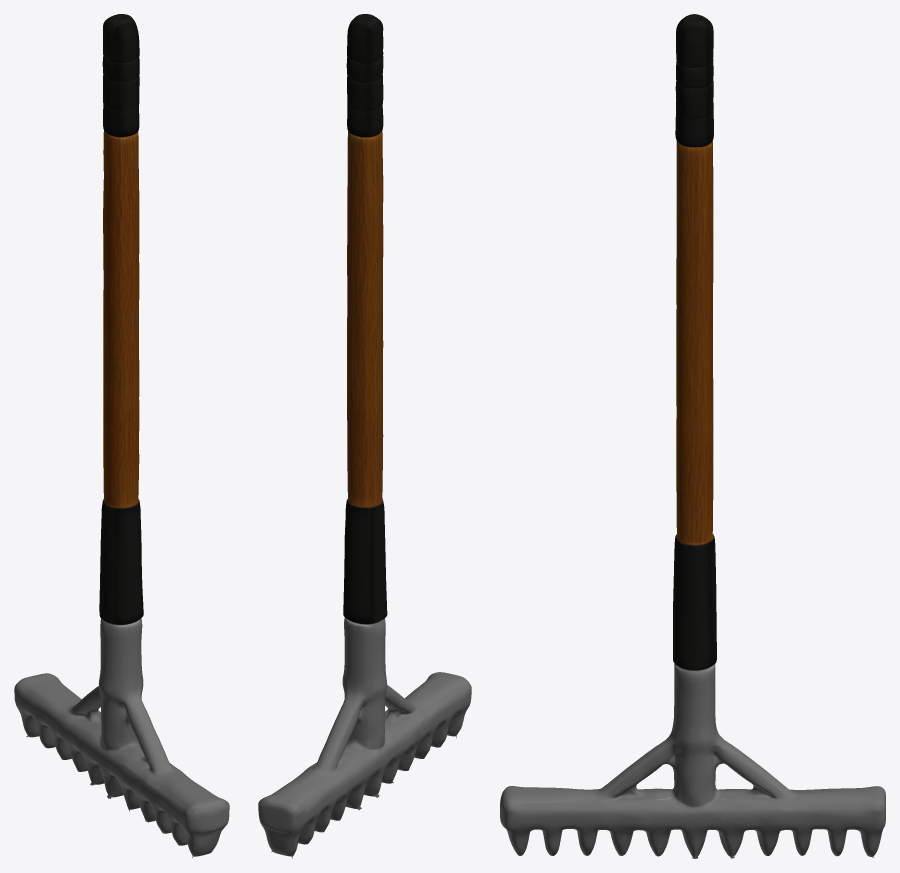
File: rake+3d+model.glb
3 renders of one model, left to right at view 1: azimuth 30°, elevation 25°; view 2: azimuth 150°, elevation 25°; view 3: azimuth 270°, elevation 25°, orthographic. The views are drawn at different scales.
Visible parts, largest first — view 1: tripo_node_cfa8f5f0-7431-4782-8e56-4c4d243a7692; view 2: tripo_node_cfa8f5f0-7431-4782-8e56-4c4d243a7692; view 3: tripo_node_cfa8f5f0-7431-4782-8e56-4c4d243a7692.
Part boxes in pixels (x1=…): tripo_node_cfa8f5f0-7431-4782-8e56-4c4d243a7692: x1=14, y1=14, x2=229, y2=857; tripo_node_cfa8f5f0-7431-4782-8e56-4c4d243a7692: x1=258, y1=14, x2=471, y2=858; tripo_node_cfa8f5f0-7431-4782-8e56-4c4d243a7692: x1=500, y1=14, x2=885, y2=858.
Size of the model in its own units: 0.0562 by 0.9821 by 0.4109.
1 material, 1 textured.
